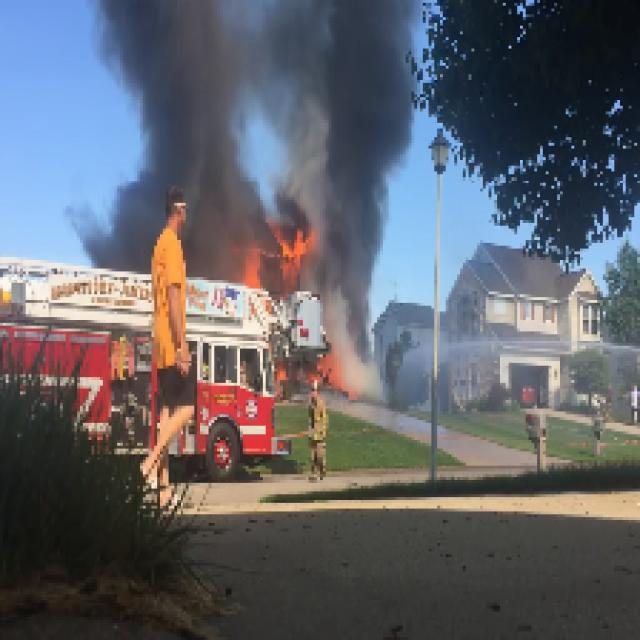Fire: (274, 228, 306, 280)
Smoke: (268, 2, 423, 218), (100, 3, 263, 180), (328, 220, 386, 360)
